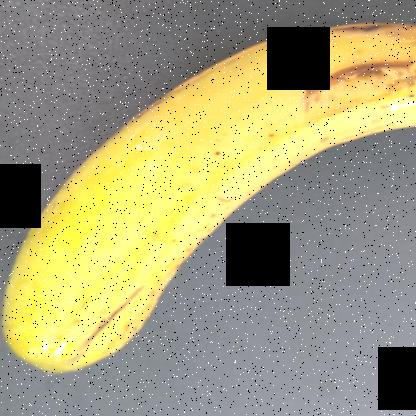ripe: (1, 10, 415, 375)
